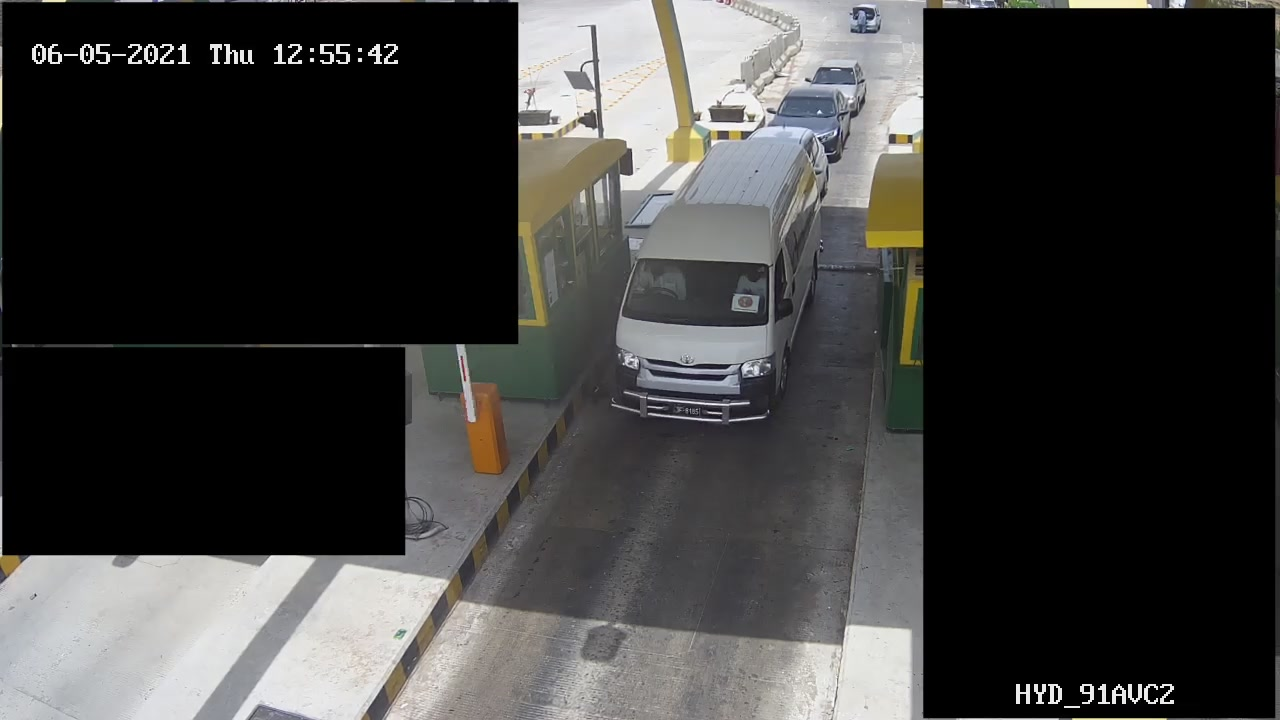F2: (614, 129, 828, 437)
